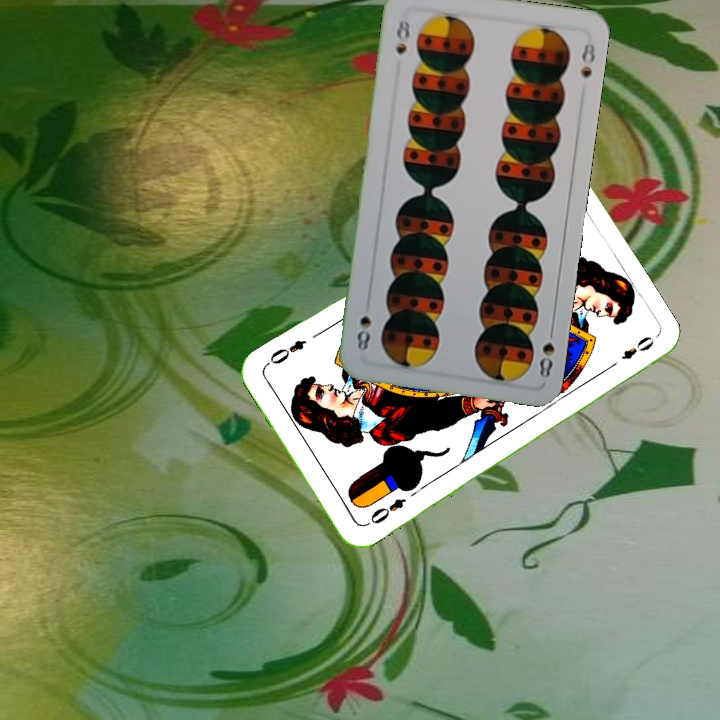EO: (361, 494, 409, 529)
S8: (535, 322, 557, 382), (391, 15, 413, 57)
